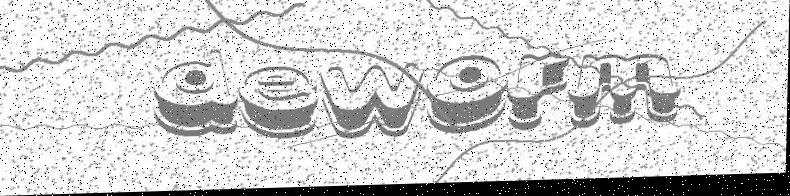d: (155, 51, 240, 138)
e: (240, 68, 319, 141)
m: (569, 55, 681, 133)
o: (428, 58, 506, 137)
r: (507, 57, 571, 133)
w: (319, 66, 423, 141)
